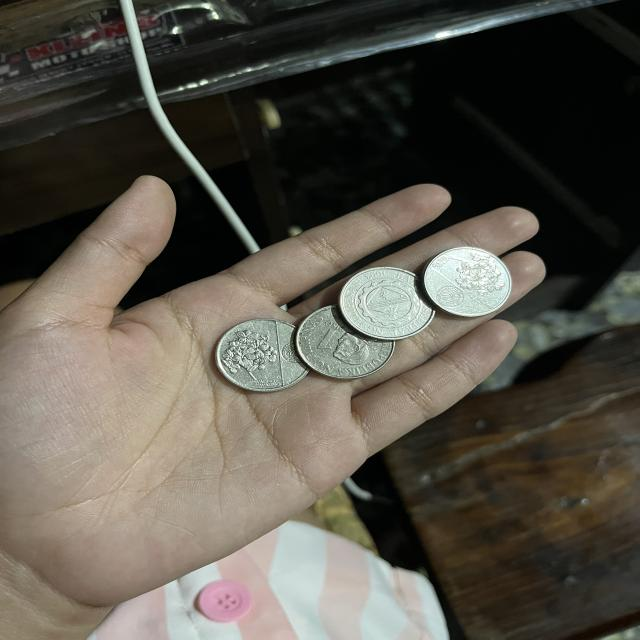1_New_Back: (216, 326, 281, 383), (448, 248, 510, 294)
1_Old_Back: (338, 267, 432, 338)
1_Old_Front: (311, 320, 352, 356)
